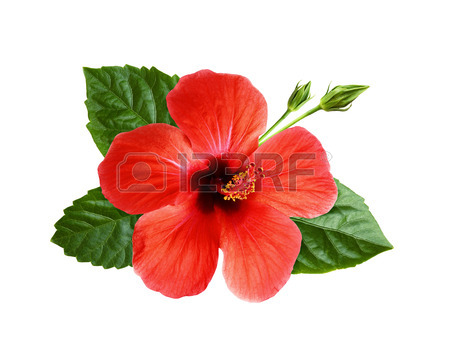Hibiscus: (112, 72, 319, 296)
